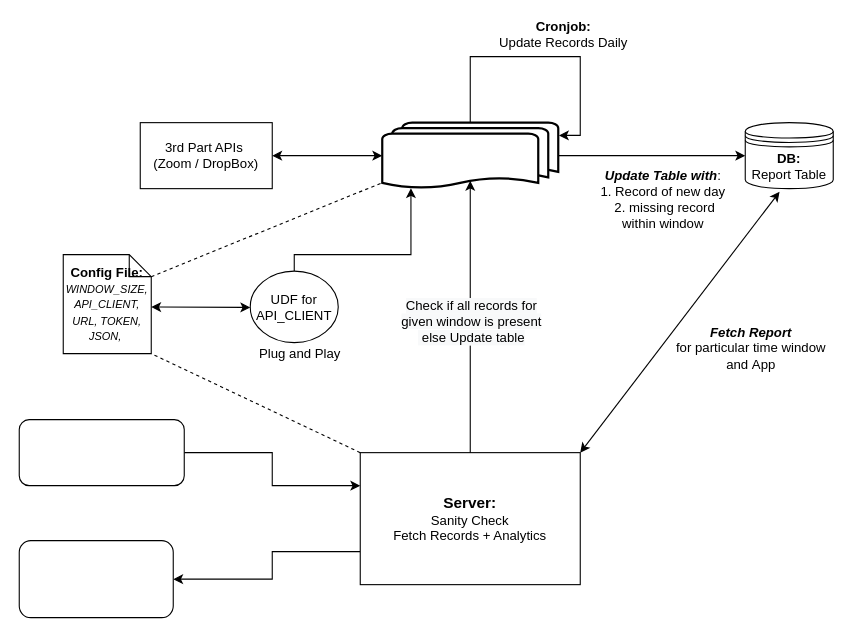
Some shapes in this 853 by 638 pixel diagram are drawn without their labels. The centre of each missing label's shape, as x and y in pixels:
"Microservice: updateRecordService" belongs at point 470,155.
"Request: Queryparam(date: window_ends)" belongs at point 101,452.
"Response: 1. JSON object having Processed Data, or, 2. Chart View" belongs at point 95,579.
